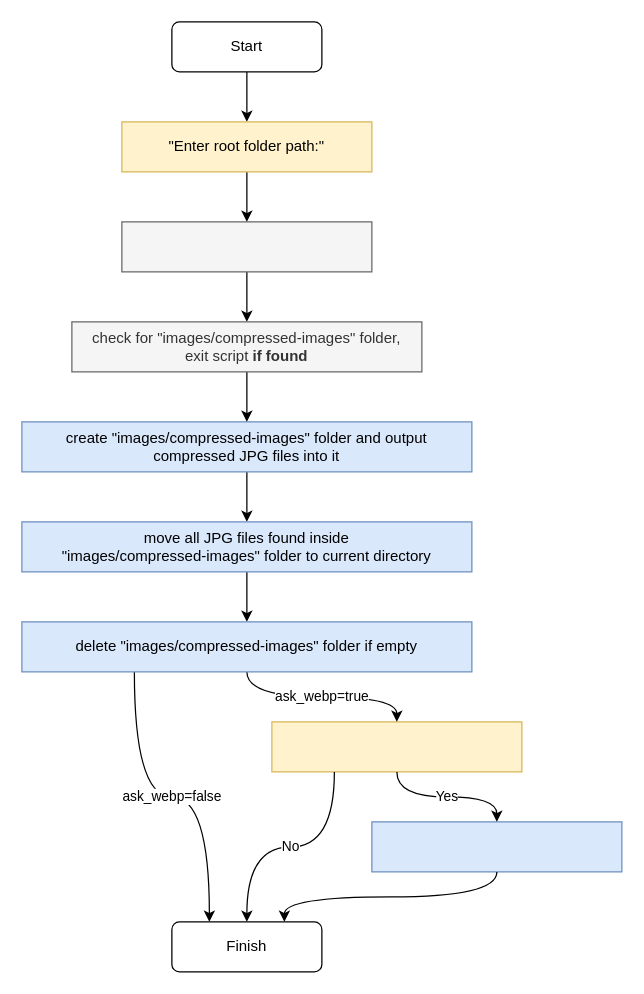
This 644x994 diagram has some shape labels left out. Each missing label, with the centre of its shape:
"Convert webp images? Y/N": [396,746]
check for "images" folder, exit script if not found: [246,246]
convert JPG files to WebP, retaining original JPG files: [496,846]
